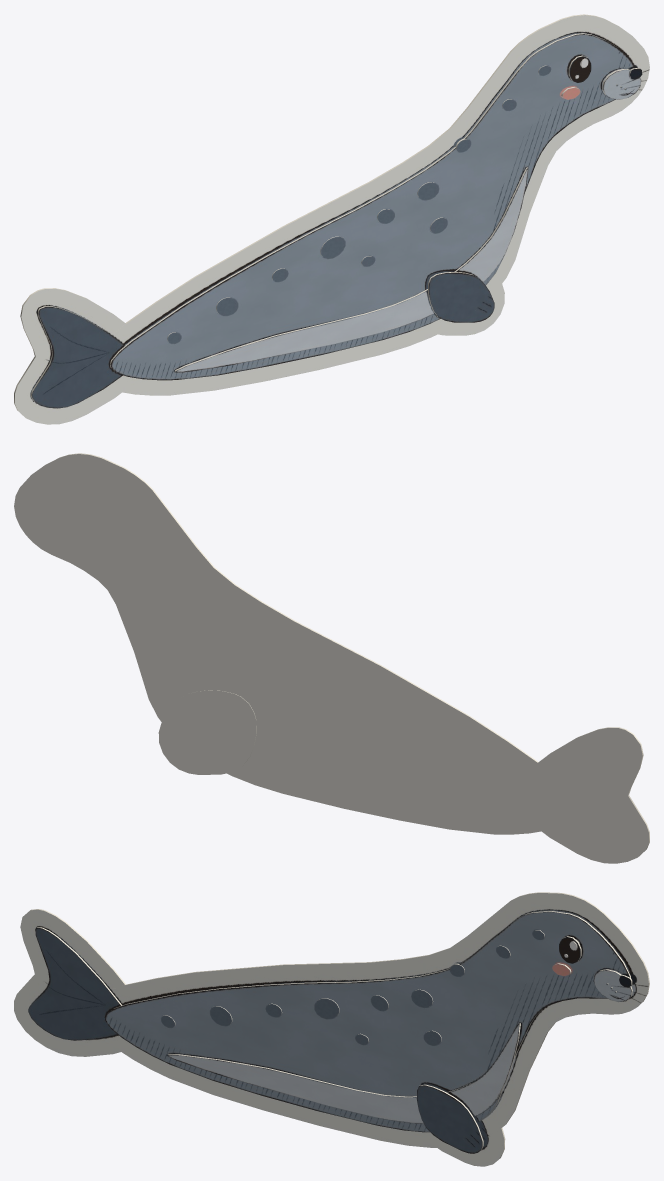
Rendered from bobble.glb.
The picture shows the model from 3 angles, top to bottom: view 1: azimuth 30°, elevation 25°; view 2: azimuth 150°, elevation 25°; view 3: azimuth 330°, elevation 25°; orthographic projection.
Parts seen in each view (by area): view 1: bobble.001; view 2: bobble.001; view 3: bobble.001.
Part boxes in pixels (x1,y1,x2,y2): bobble.001: (14,14,649,424); bobble.001: (14,453,649,863); bobble.001: (14,892,649,1166).
Size of the model in its own units: 1.35 by 0.5975 by 0.0245.
3 materials, 1 textured.
